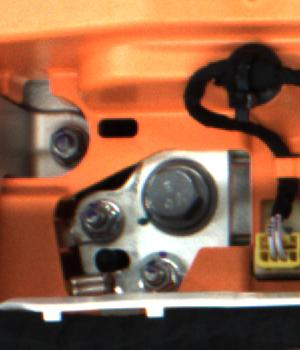nut_b: (136, 154, 215, 239)
screw_s: (79, 197, 117, 240), (45, 123, 83, 163), (141, 258, 176, 294)
